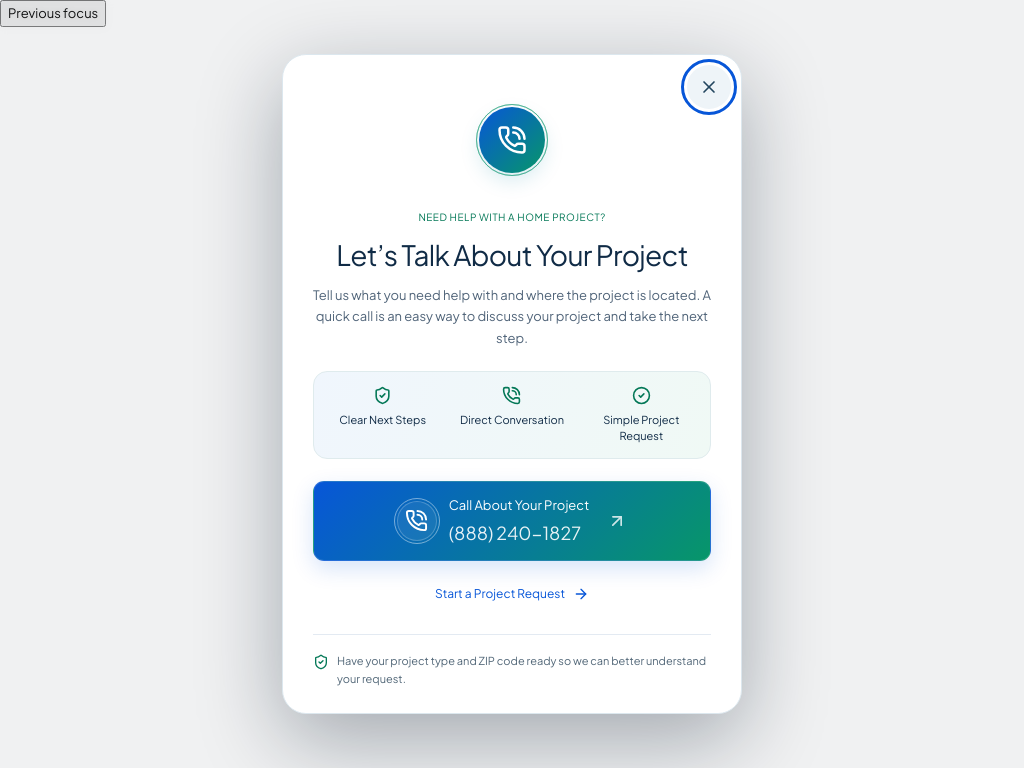
Test: honors reduced motion when closing and skips automatic opens while typing
The image size is (1024, 768).
Click the button named "Close call popup".
click(709, 87)  # box [687,65,731,109]
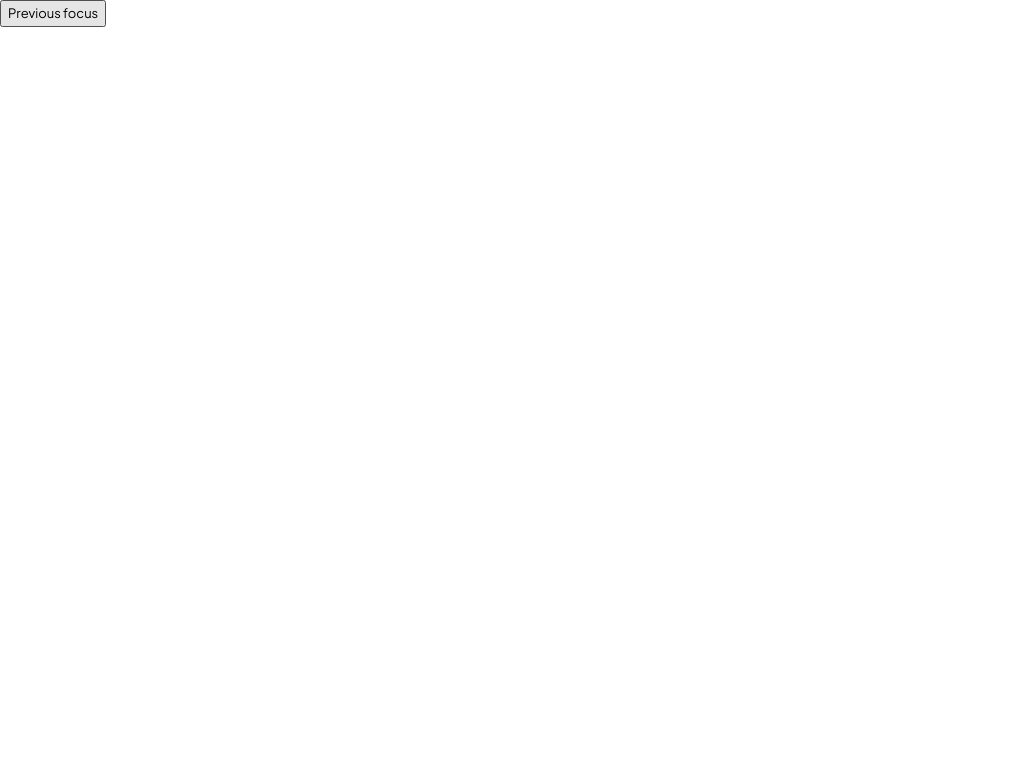
Now the dialog is gone
